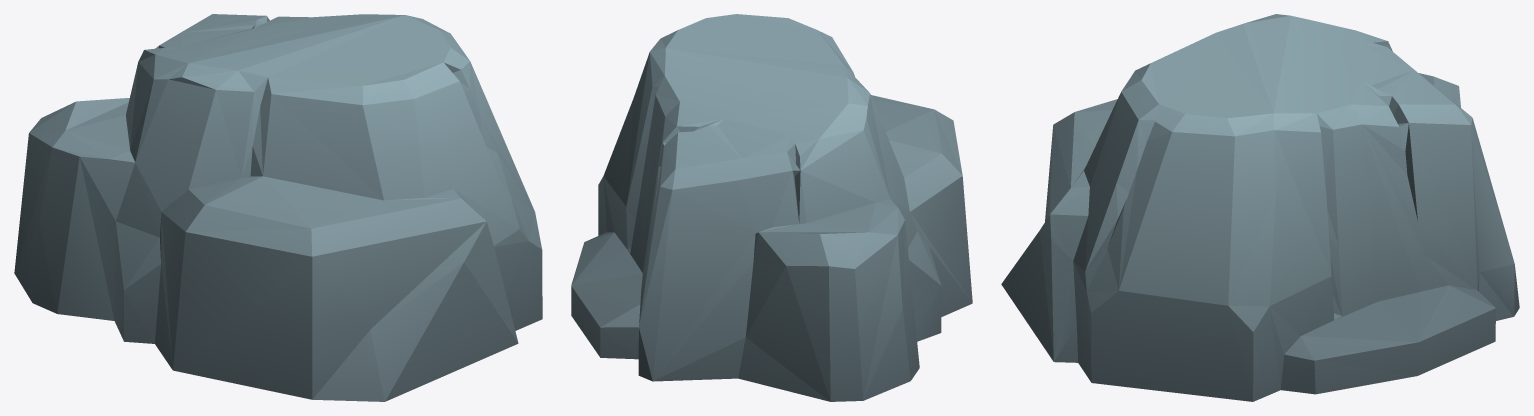
File: stone large gray blue 3.fbx
3 renders of one model, left to right at view 1: azimuth 30°, elevation 25°; view 2: azimuth 150°, elevation 25°; view 3: azimuth 270°, elevation 25°, orthographic. The views are drawn at different scales.
Parts seen in each view (by area): view 1: stone large gray blue 3; view 2: stone large gray blue 3; view 3: stone large gray blue 3.
Boxes of the visible parts, left/top/right/bottom form: stone large gray blue 3: left=14, top=14, right=542, bottom=401; stone large gray blue 3: left=571, top=14, right=972, bottom=401; stone large gray blue 3: left=1001, top=14, right=1519, bottom=401.
Size of the model in its own units: 558 by 328 by 621.
